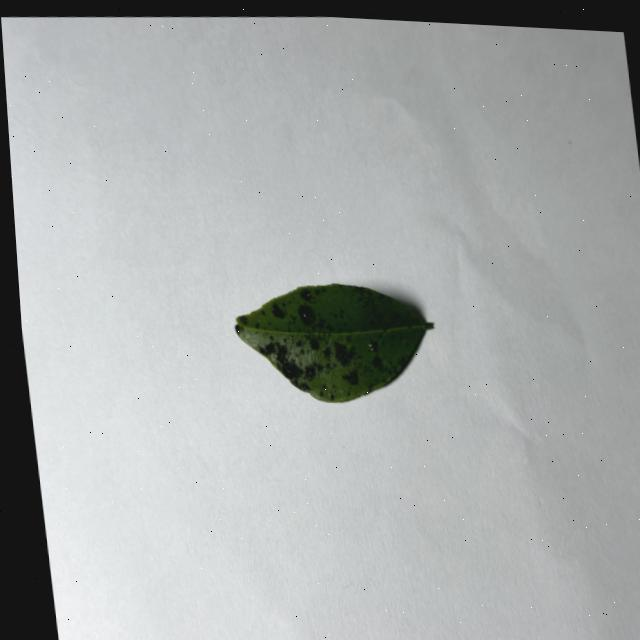sooty_mold: (235, 283, 433, 401)
